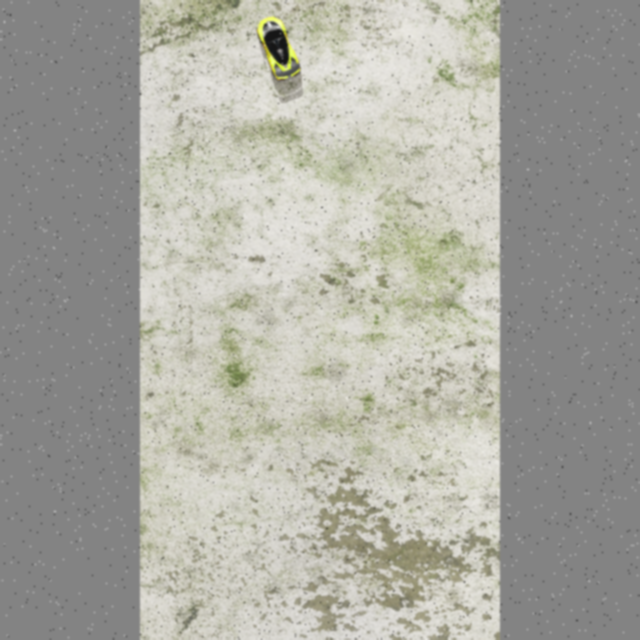car: (250, 6, 303, 87)
